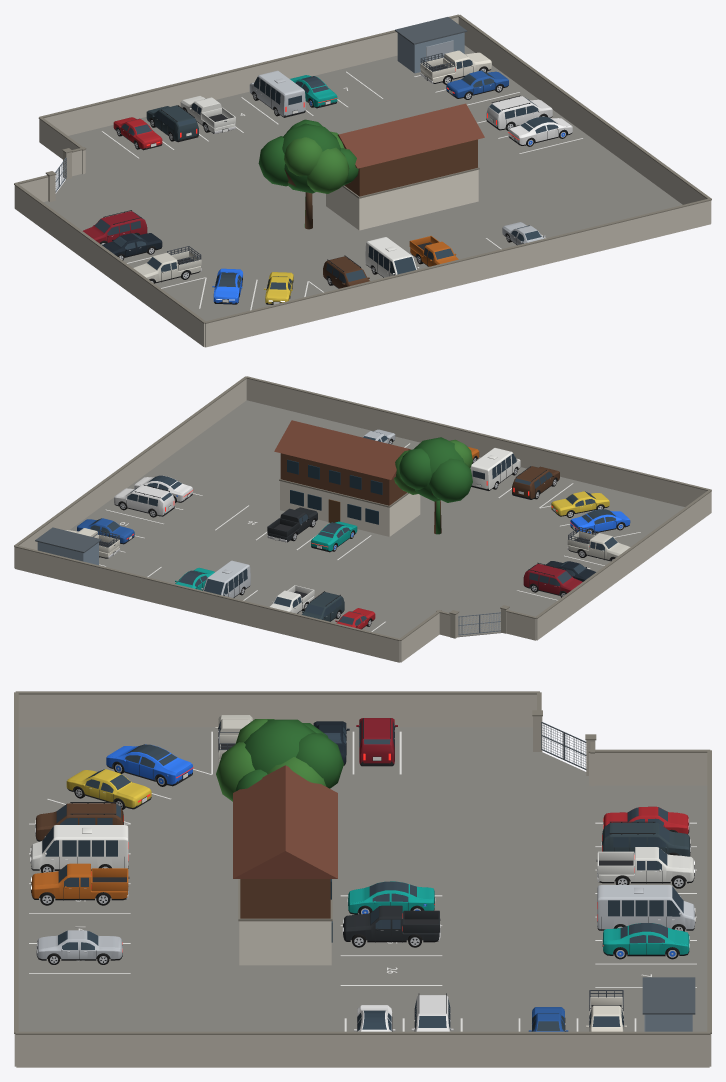
The model's file is parking_lot_demo.glb.
3 renders of one model, top to bottom at view 1: azimuth 30°, elevation 25°; view 2: azimuth 150°, elevation 25°; view 3: azimuth 270°, elevation 25°, orthographic. The views are drawn at different scales.
Visible parts, largest first — view 1: LOT_Ground, LOT_Walls, LOT_House, LOT_BigTree, LOT_Shed, CAR_N05_van, CAR_E01_pickupcage, CAR_W01_pickupcage, CAR_E04_suv, CAR_S04_van, CAR_N02_suv, CAR_N03_pickup (+12 smaller); view 2: LOT_Ground, LOT_Walls, LOT_House, LOT_BigTree, LOT_Shed, CAR_S04_van, CAR_E04_suv, CAR_W01_pickupcage, CAR_W04_suv, CAR_N05_van, CAR_H02_pickup, CAR_S05_suv (+12 smaller); view 3: LOT_Ground, LOT_Walls, LOT_House, LOT_BigTree, CAR_S04_van, CAR_N05_van, CAR_S03_pickup, CAR_H02_pickup, CAR_N03_pickup, LOT_Shed, CAR_N06_ev, CAR_C02_ev (+14 smaller).
Boxes of the visible parts, x1=… form: LOT_Ground: x1=43, y1=45, x2=682, y2=320; LOT_Walls: x1=14, y1=14, x2=711, y2=347; LOT_House: x1=326, y1=103, x2=484, y2=230; LOT_BigTree: x1=258, y1=119, x2=358, y2=229; LOT_Shed: x1=395, y1=17, x2=467, y2=73; CAR_N05_van: x1=249, y1=70, x2=305, y2=117; CAR_E01_pickupcage: x1=420, y1=50, x2=491, y2=84; CAR_W01_pickupcage: x1=133, y1=246, x2=201, y2=283; CAR_E04_suv: x1=486, y1=95, x2=552, y2=130; CAR_S04_van: x1=365, y1=237, x2=419, y2=277; CAR_N02_suv: x1=146, y1=105, x2=198, y2=142; CAR_N03_pickup: x1=180, y1=96, x2=235, y2=133; LOT_Ground: x1=69, y1=400, x2=684, y2=638; LOT_Walls: x1=14, y1=376, x2=711, y2=662; LOT_House: x1=274, y1=420, x2=420, y2=536; LOT_BigTree: x1=394, y1=437, x2=472, y2=534; LOT_Shed: x1=35, y1=527, x2=101, y2=565; CAR_S04_van: x1=470, y1=448, x2=520, y2=490; CAR_E04_suv: x1=114, y1=484, x2=174, y2=517; CAR_W01_pickupcage: x1=567, y1=527, x2=630, y2=561; CAR_W04_suv: x1=523, y1=562, x2=582, y2=597; CAR_N05_van: x1=201, y1=560, x2=250, y2=597; CAR_H02_pickup: x1=267, y1=507, x2=317, y2=542; CAR_S05_suv: x1=512, y1=466, x2=559, y2=499; LOT_Ground: x1=18, y1=727, x2=707, y2=1031; LOT_Walls: x1=14, y1=691, x2=711, y2=1067; LOT_House: x1=233, y1=765, x2=337, y2=965; LOT_BigTree: x1=216, y1=719, x2=343, y2=801; CAR_S04_van: x1=30, y1=825, x2=128, y2=872; CAR_N05_van: x1=597, y1=885, x2=695, y2=931; CAR_S03_pickup: x1=30, y1=863, x2=129, y2=905; CAR_H02_pickup: x1=342, y1=905, x2=440, y2=947; CAR_N03_pickup: x1=596, y1=847, x2=695, y2=888; LOT_Shed: x1=642, y1=977, x2=695, y2=1031; CAR_N06_ev: x1=602, y1=923, x2=689, y2=959; CAR_C02_ev: x1=106, y1=744, x2=193, y2=786.
Size of the model in its own units: 44.66 by 8.56 by 38.51.
